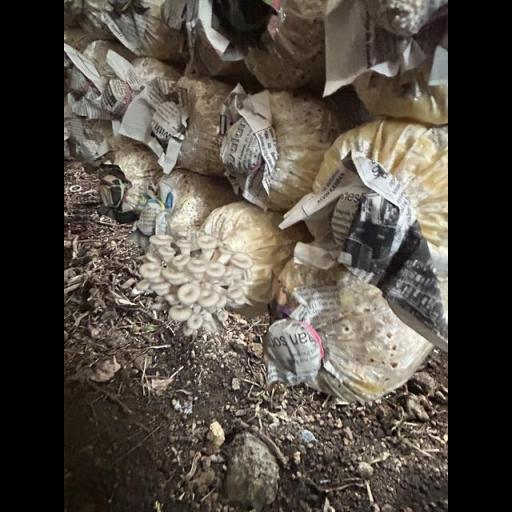White Oyster Mushroom: (117, 213, 272, 358)
